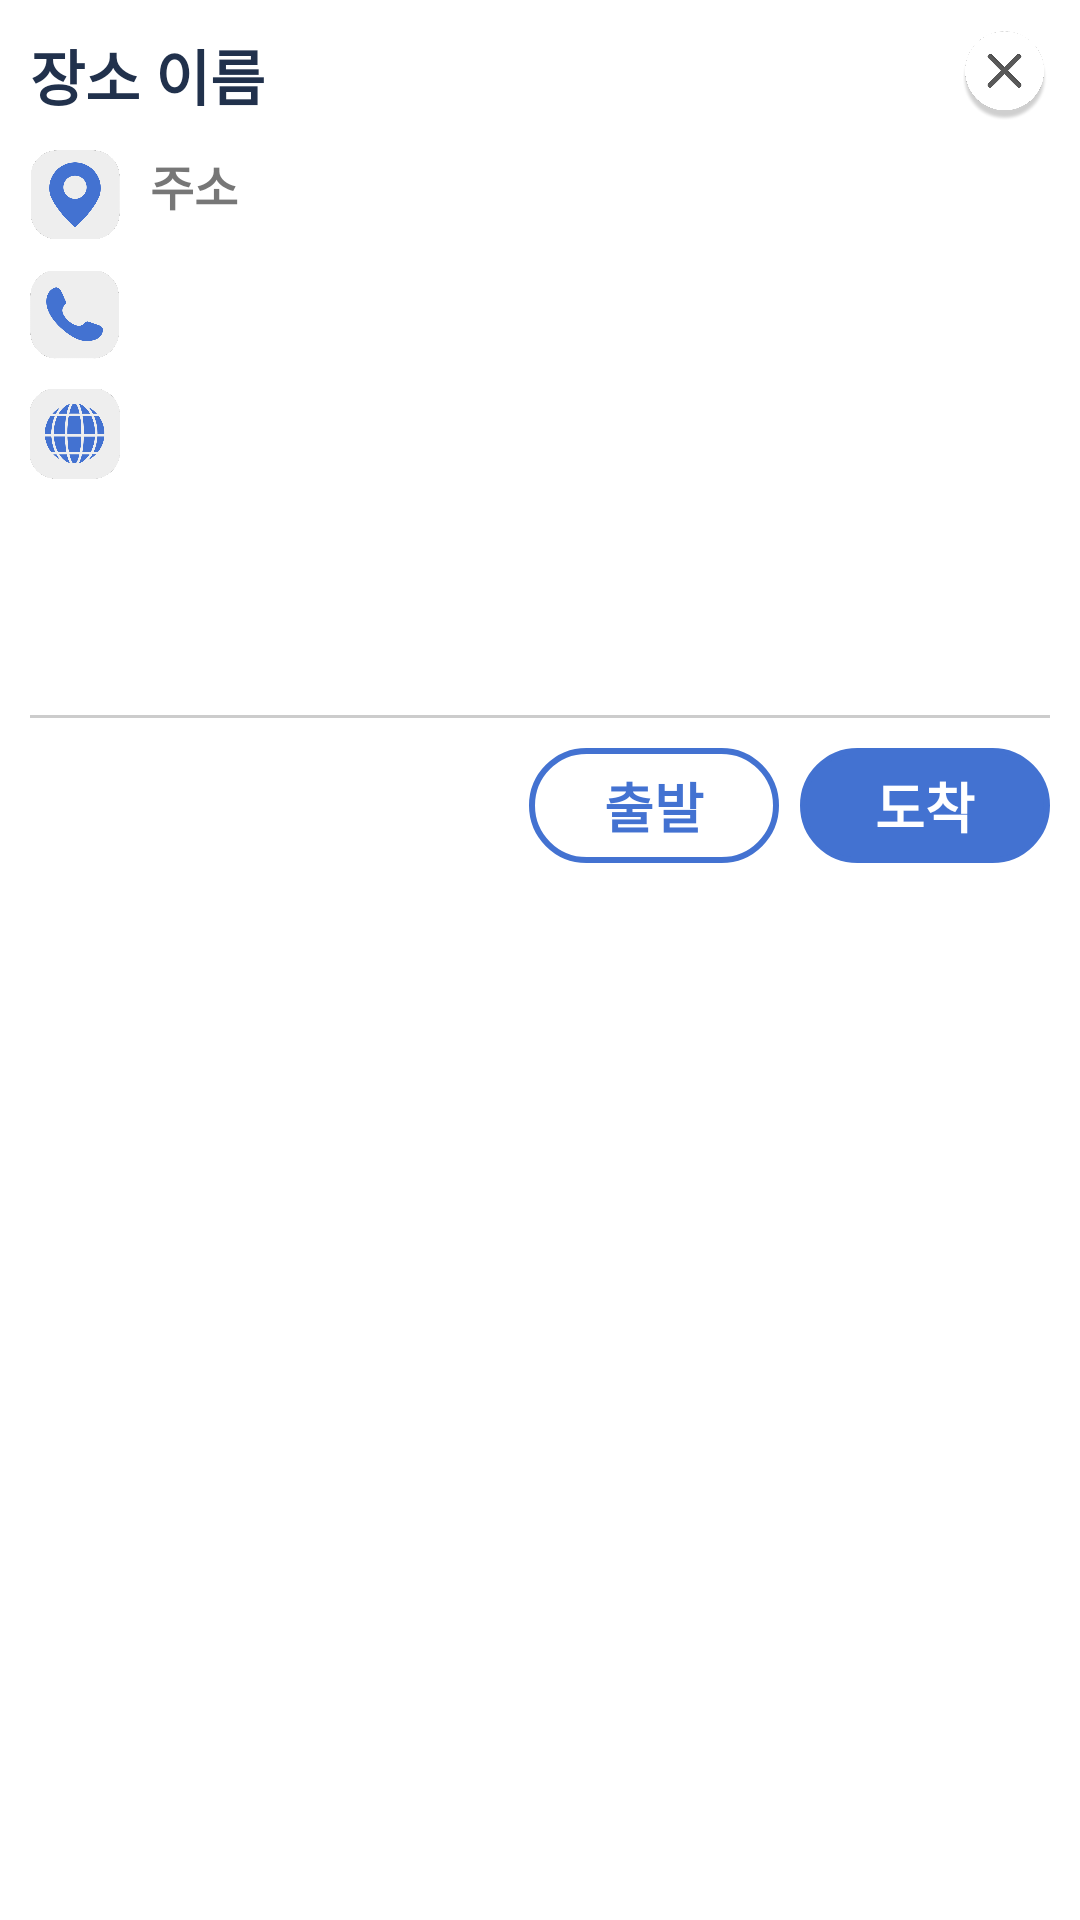

Named icons in this screenshot (1080 × 1920) and their centers, (x=x, y=y):
loc: (x=75, y=194)
tel: (x=74, y=315)
web: (x=75, y=434)
